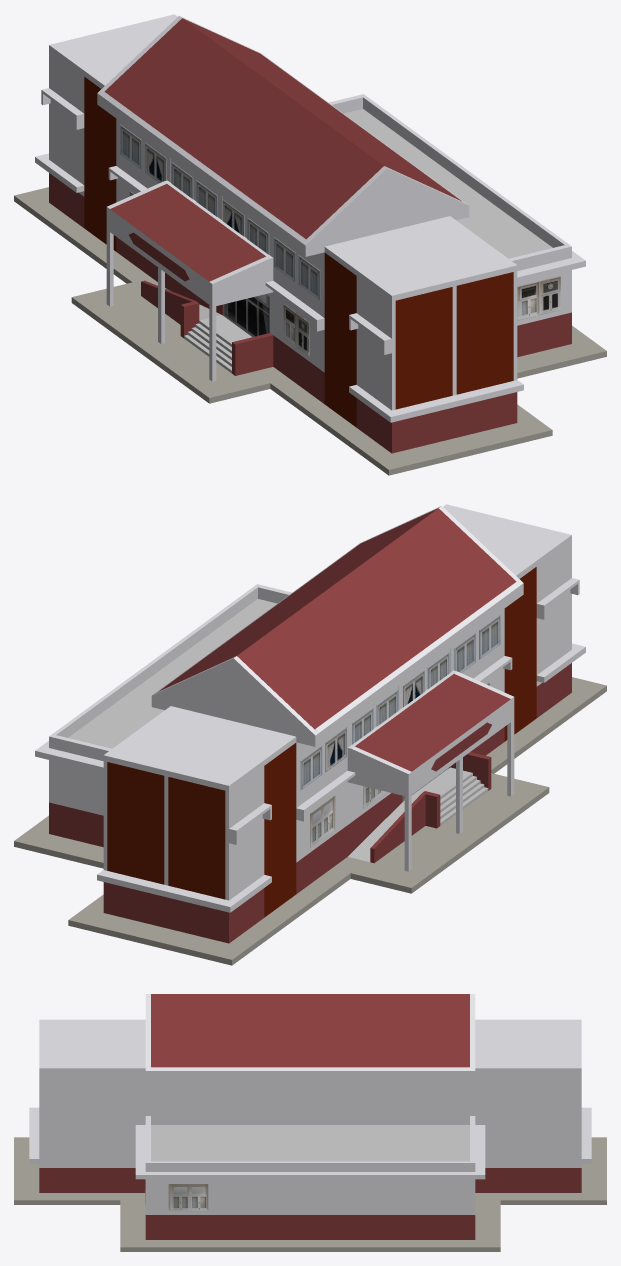
Rendered from Police_station1.4.fbx.
The picture shows the model from 3 angles, top to bottom: view 1: azimuth 30°, elevation 25°; view 2: azimuth 150°, elevation 25°; view 3: azimuth 270°, elevation 25°; orthographic projection. The views are drawn at different scales.
Parts seen in each view (by area): view 1: Building, Roof, Brick_Wall, Base, Window2, Window1, Front_Door; view 2: Building, Roof, Brick_Wall, Base, Window2, Window1; view 3: Building, Roof, Base, Window1.
Boxes of the visible parts, bbox=[...] form: Building: bbox=[35, 14, 585, 453]; Roof: bbox=[104, 18, 461, 281]; Brick_Wall: bbox=[84, 77, 513, 427]; Base: bbox=[14, 187, 606, 475]; Window2: bbox=[120, 124, 320, 299]; Window1: bbox=[129, 191, 560, 355]; Front_Door: bbox=[223, 294, 269, 336]; Building: bbox=[35, 504, 585, 943]; Roof: bbox=[159, 508, 516, 771]; Brick_Wall: bbox=[107, 567, 536, 917]; Base: bbox=[14, 677, 606, 965]; Window2: bbox=[300, 614, 500, 789]; Window1: bbox=[310, 682, 489, 847]; Building: bbox=[29, 994, 591, 1239]; Roof: bbox=[151, 994, 469, 1067]; Base: bbox=[14, 1137, 606, 1251]; Window1: bbox=[145, 1179, 208, 1210].
Size of the model in its own units: 1600 by 1000 by 3000.
